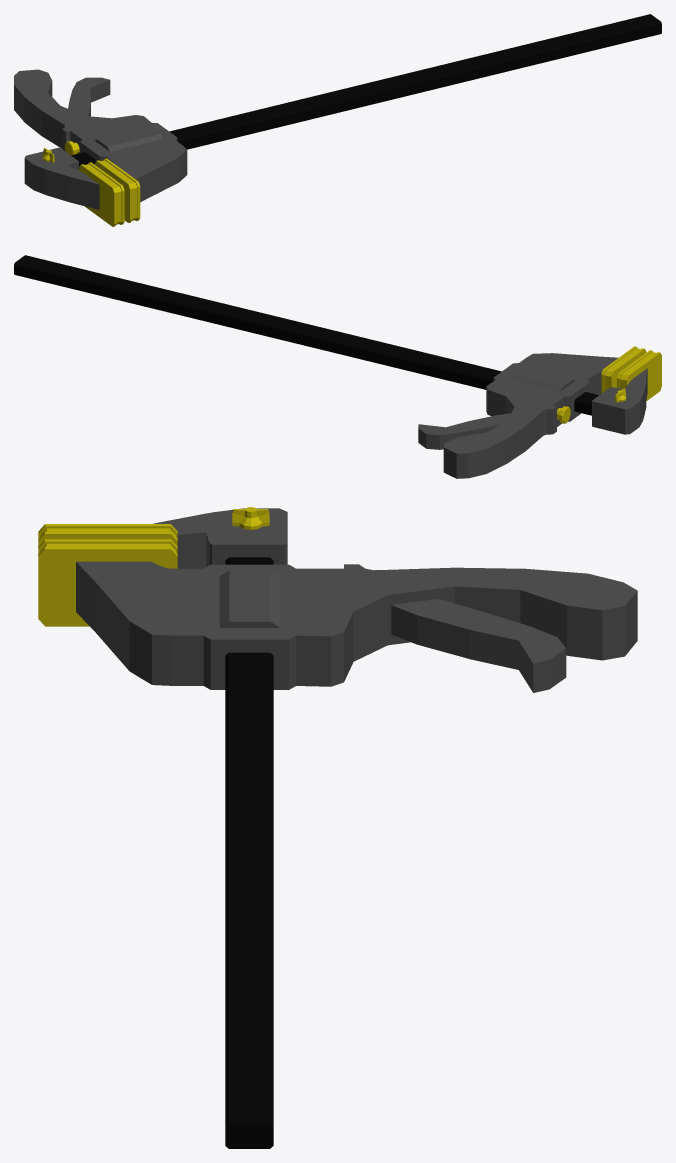
Rendered from Clamp1.fbx.
3 views of the same model, one above another, from view 1: azimuth 30°, elevation 25°; view 2: azimuth 150°, elevation 25°; view 3: azimuth 270°, elevation 25° (orthographic). The views are drawn at different scales.
Parts seen in each view (by area): view 1: polySurface5, polySurface4, polySurface2; view 2: polySurface5, polySurface4, polySurface2; view 3: polySurface4, polySurface5, polySurface2.
Boxes of the visible parts, box(x1,y1,x2,y2) form: polySurface5: box(24, 14, 661, 226); polySurface4: box(14, 69, 187, 222); polySurface2: box(68, 77, 110, 116); polySurface5: box(14, 255, 661, 434); polySurface4: box(443, 346, 646, 478); polySurface2: box(418, 413, 510, 449); polySurface4: box(38, 539, 637, 689); polySurface5: box(38, 507, 287, 1148); polySurface2: box(391, 599, 566, 692).
Bounding box in the file's own units: 1.31 × 0.0815 × 0.551.
